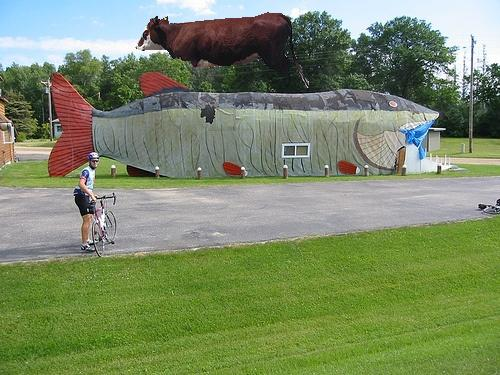tampered: (136, 13, 309, 89)
